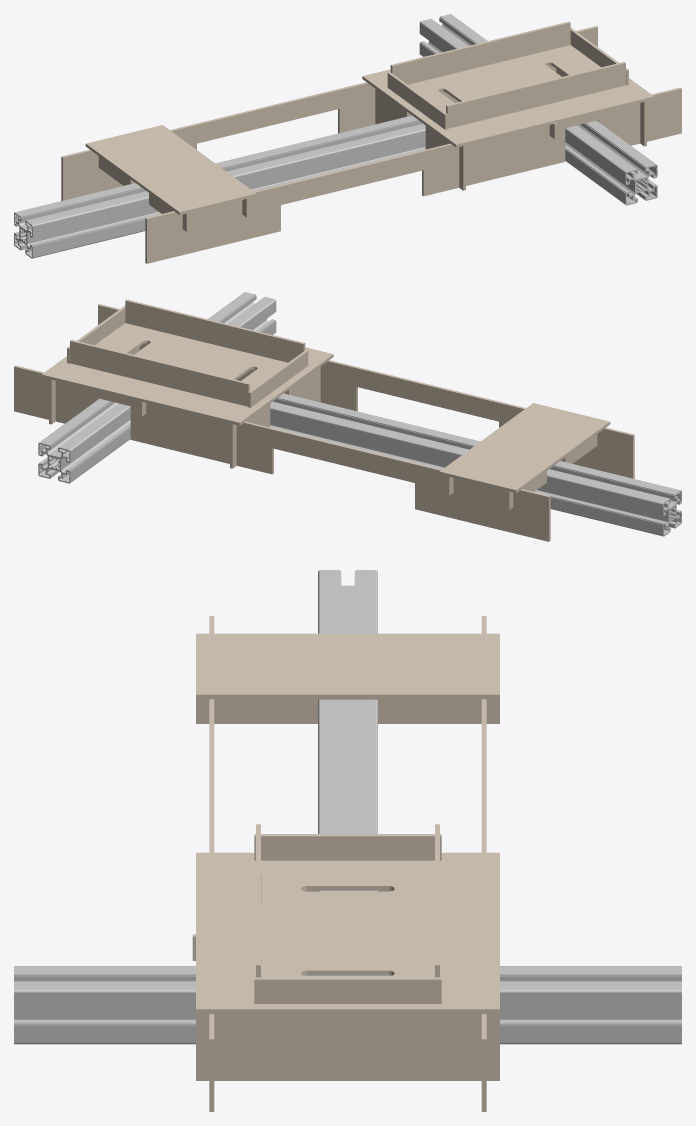
The model's file is support_camera.glb.
3 views of the same model, one above another, from view 1: azimuth 30°, elevation 25°; view 2: azimuth 150°, elevation 25°; view 3: azimuth 270°, elevation 25° (orthographic). The views are drawn at different scales.
Visible parts, largest first — view 1: support caméra_; view 2: support caméra_; view 3: support caméra_.
Boxes of the visible parts, x1,y1,x2,y2 form: support caméra_: [14, 14, 681, 263]; support caméra_: [14, 292, 681, 541]; support caméra_: [14, 570, 681, 1111].
Size of the model in its own units: 86.34 by 9.39 by 50.
